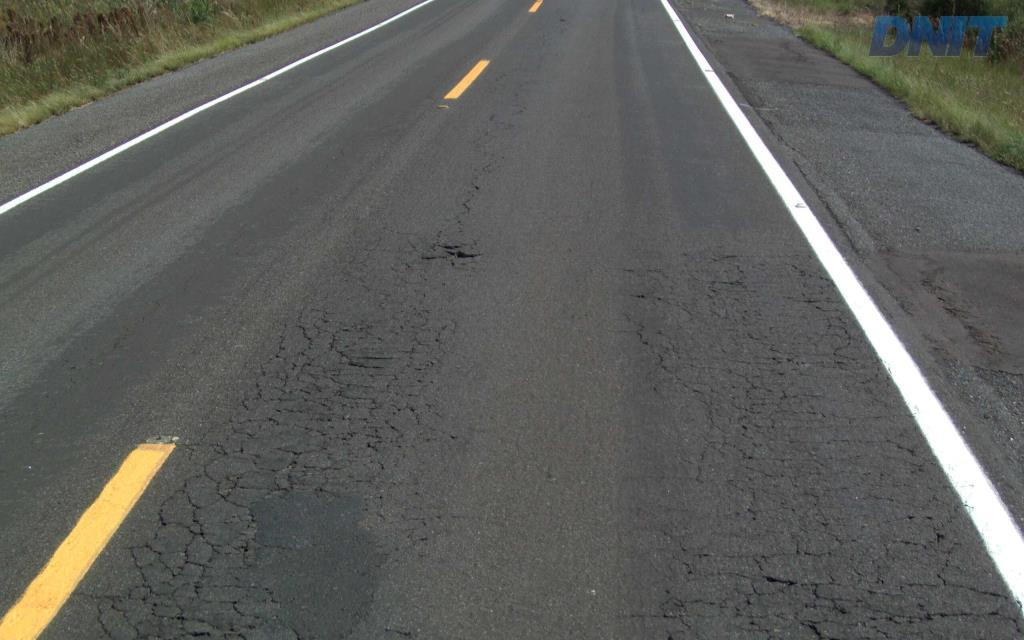crack: (137, 494, 213, 580), (855, 597, 973, 625), (127, 546, 178, 604), (132, 602, 211, 639), (800, 581, 851, 616)
